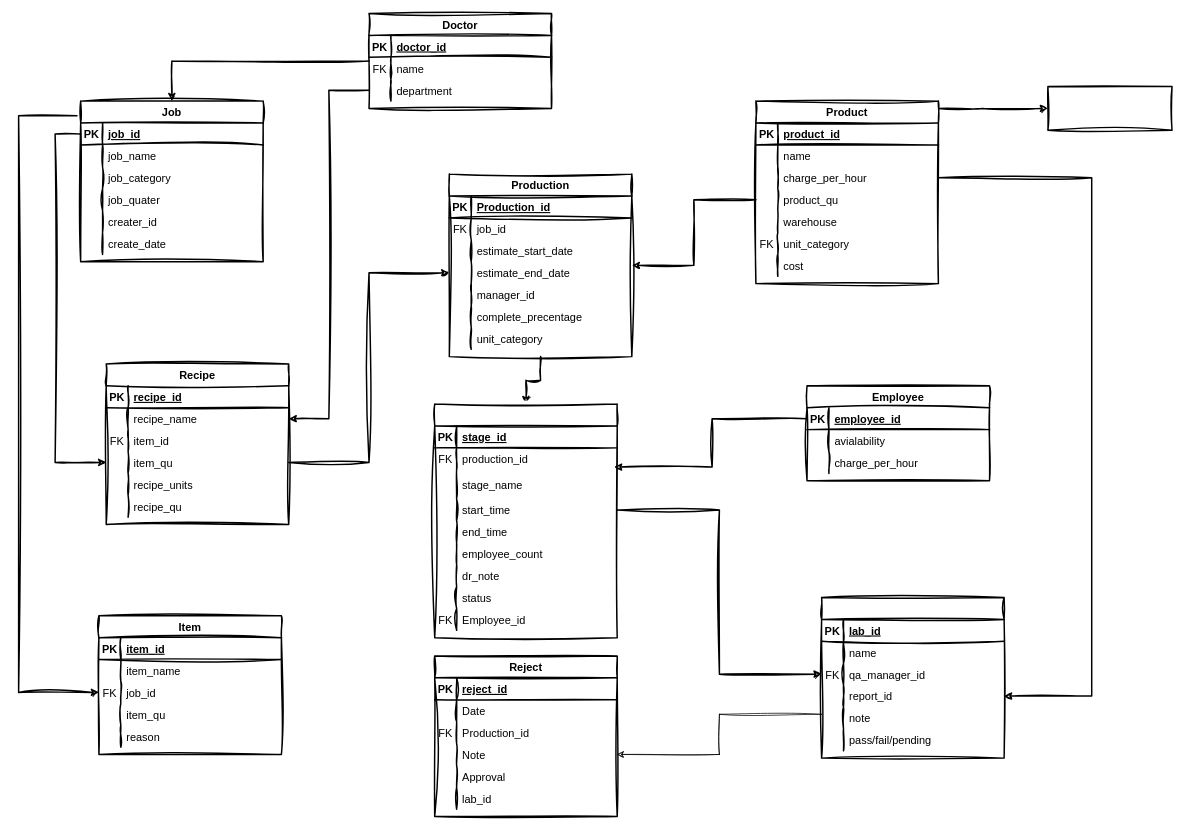
Some shapes in this 1185 by 829 pixel diagram are drawn without their labels. The shapes that lost their labels are listed below. From the top down, each one's box as (x1, y1, x2, y2) in pixels, then its label:
(1047, 85, 1172, 131): Inventory
(434, 403, 618, 638): Stages
(821, 596, 1004, 758): QA
